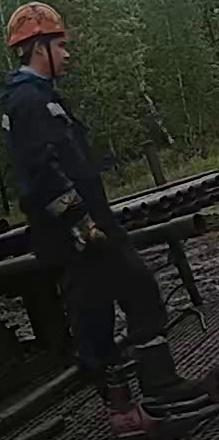gloves: (43, 185, 112, 261)
helmet: (5, 1, 66, 48)
vest: (1, 71, 107, 225)
